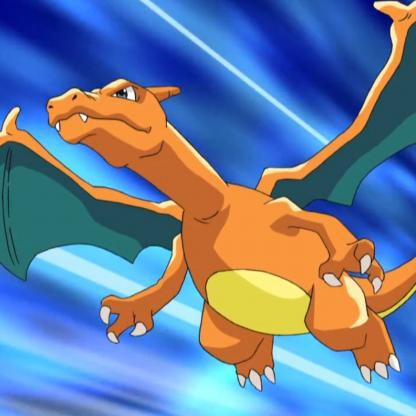Charizard: (1, 1, 416, 386)
